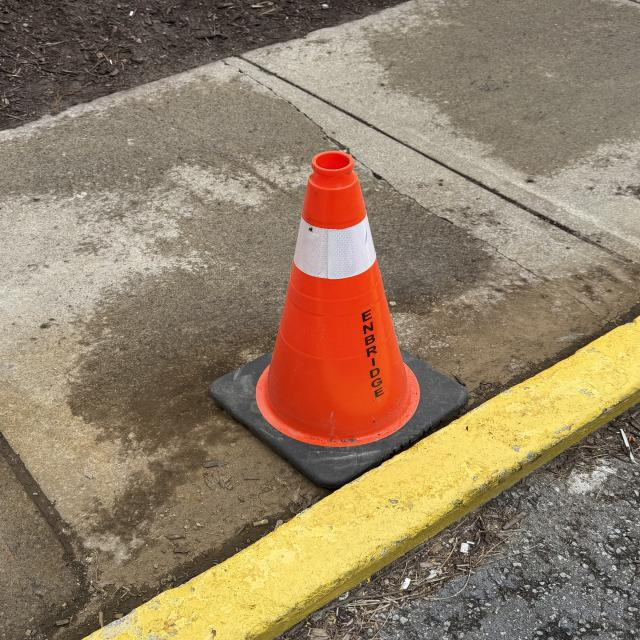Traffic Cone: (205, 146, 471, 491)
